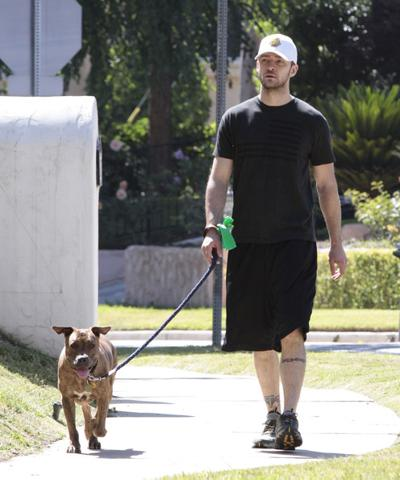person: (206, 35, 348, 448)
